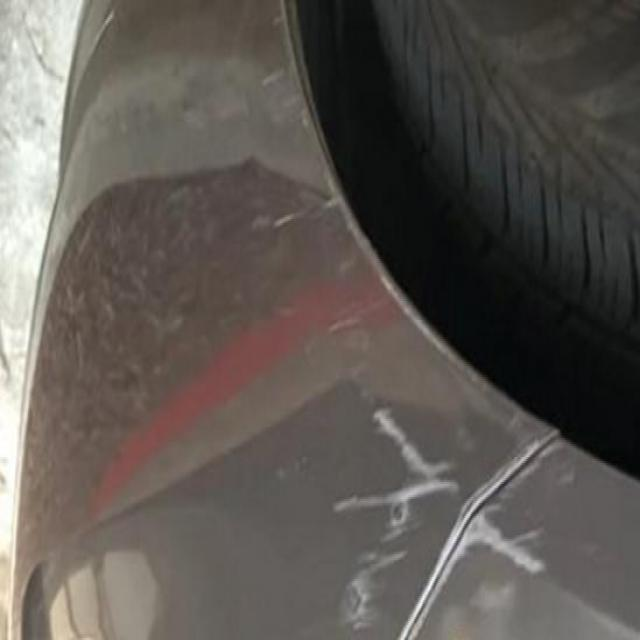scratch: (319, 402, 552, 640)
